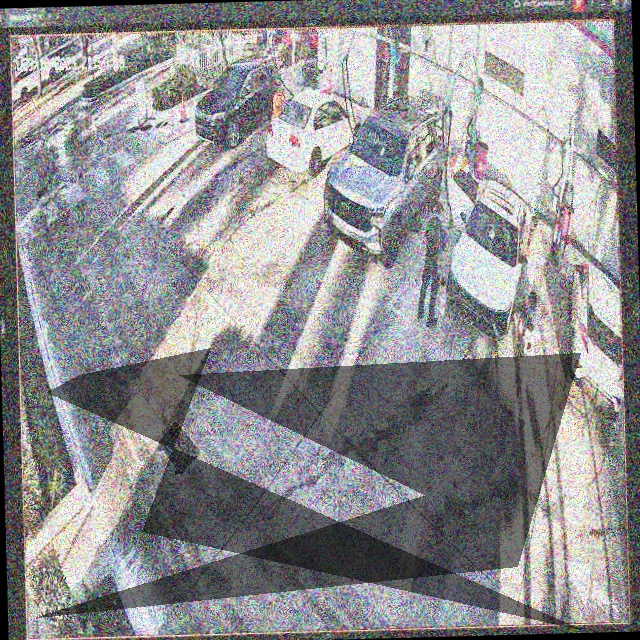Car: (323, 92, 451, 264), (446, 167, 532, 344), (265, 80, 362, 178), (190, 57, 280, 149)
